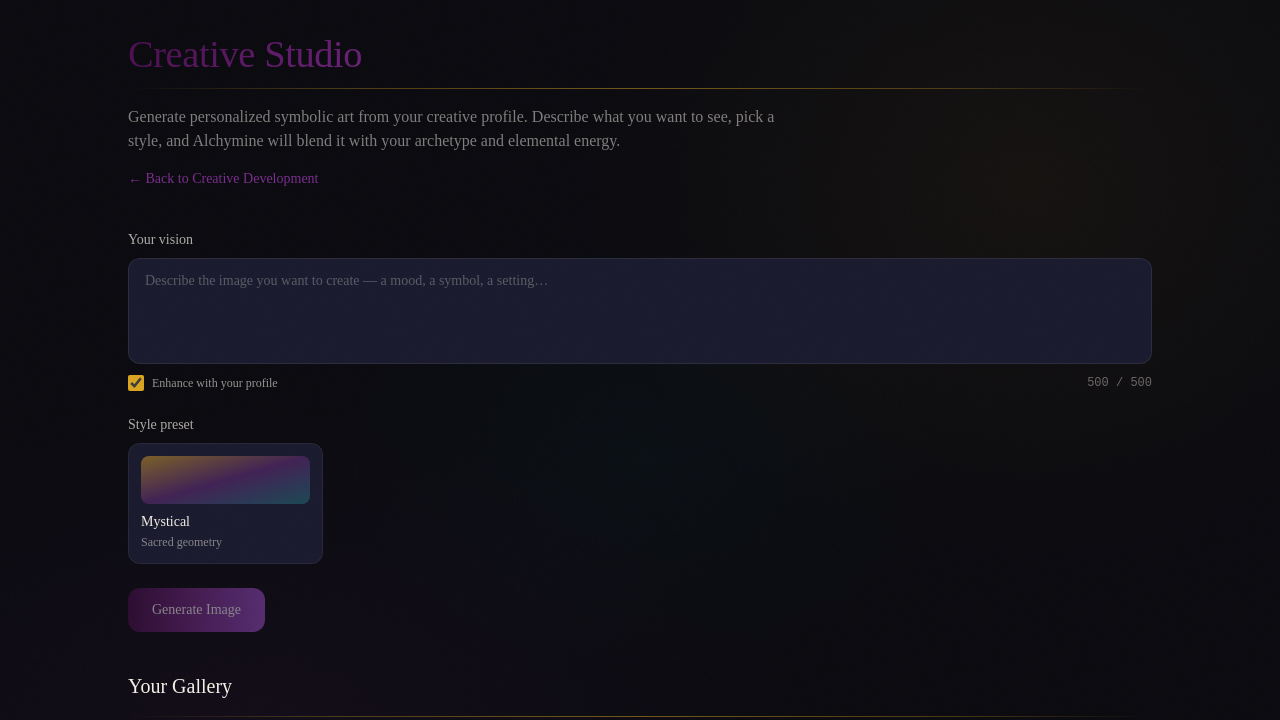
CreativeStudioPage daily cap › shows the same wait state when the global spend breaker trips
The width and height of the screenshot is (1280, 720).
Step 1. Replace the text in the text box labelled "Your vision" with "a quiet forest" → (640, 311), box [128,258,1152,364]
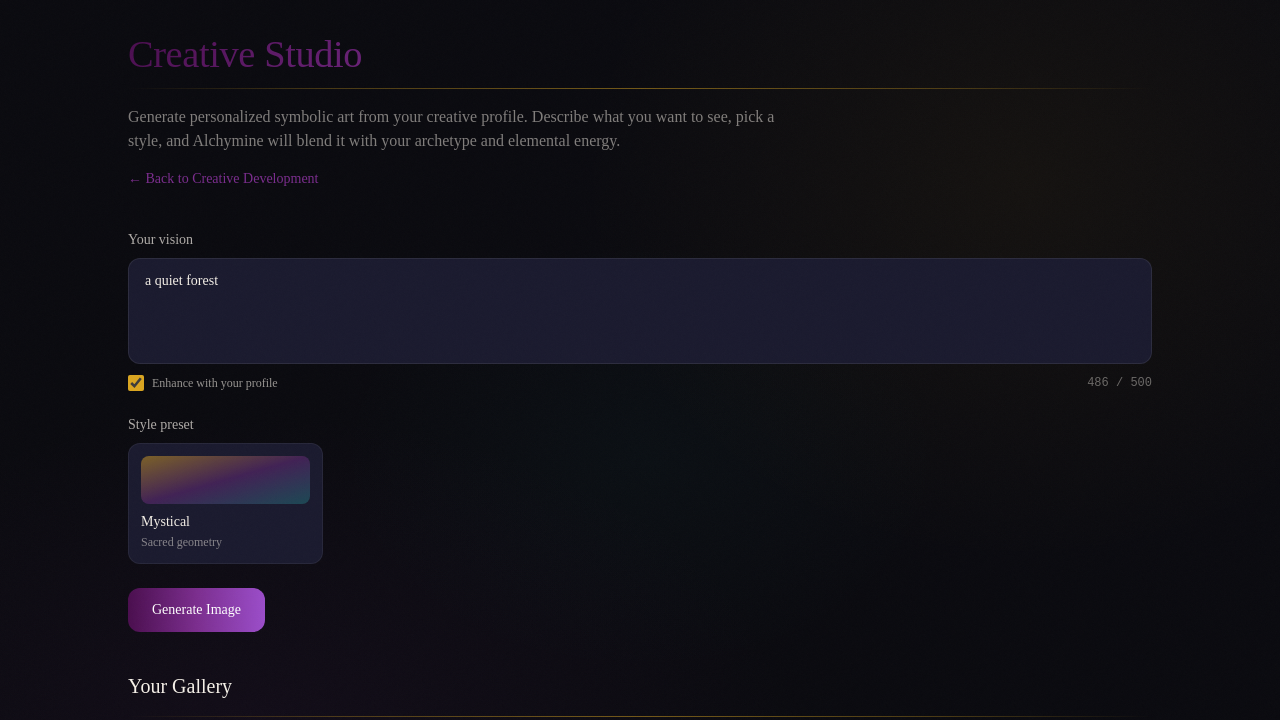
Step 2. Click the button "Generate Image" → (196, 610), box [128,588,265,632]
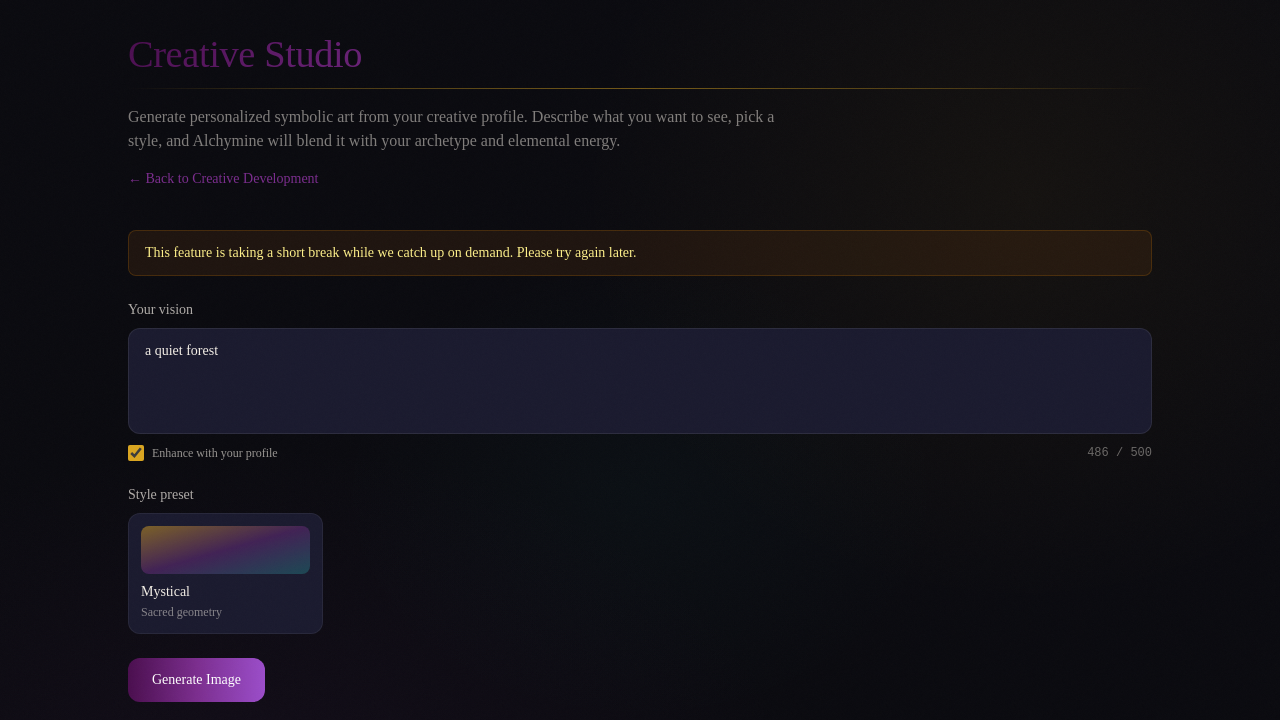
Expected: the message shows "short break", [145,245,636,260]
